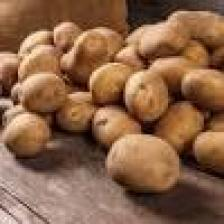Diseased-fungal potato: (105, 134, 184, 194), (121, 71, 174, 125), (2, 112, 53, 158), (16, 73, 71, 114), (84, 61, 130, 107), (177, 65, 224, 110)
